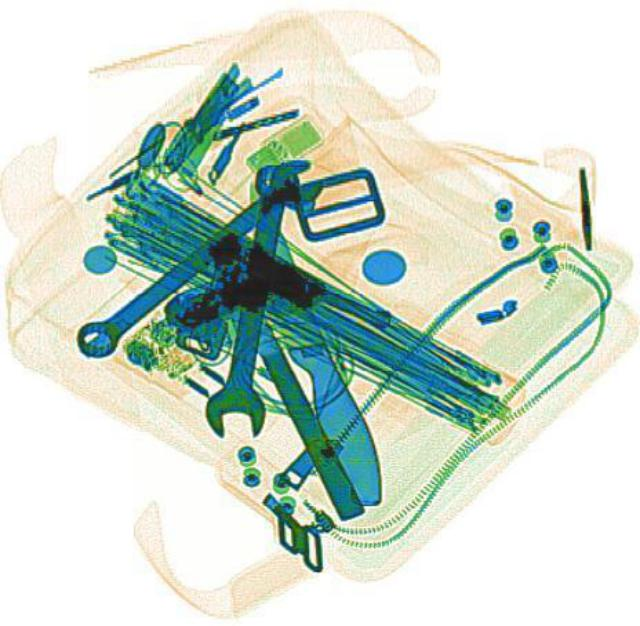Gun: (158, 217, 392, 405)
Knife: (224, 172, 392, 509), (201, 229, 363, 518)
Wrench: (62, 154, 330, 364), (197, 160, 305, 438)
